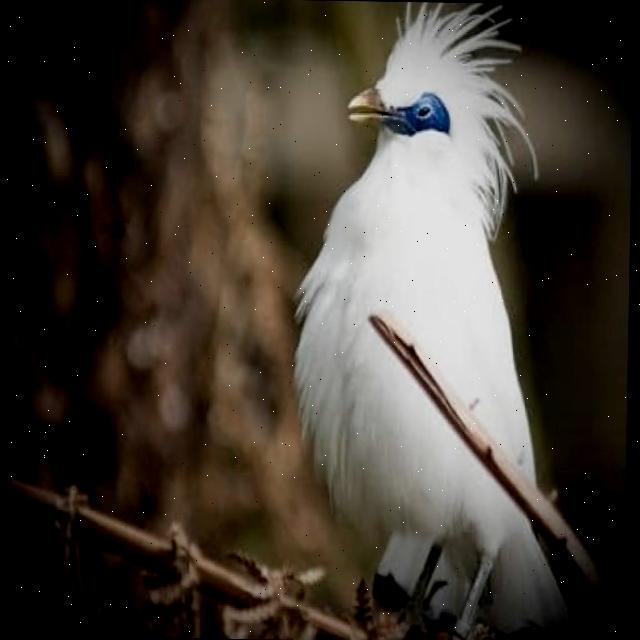Jalak Bali: (271, 0, 583, 640)
